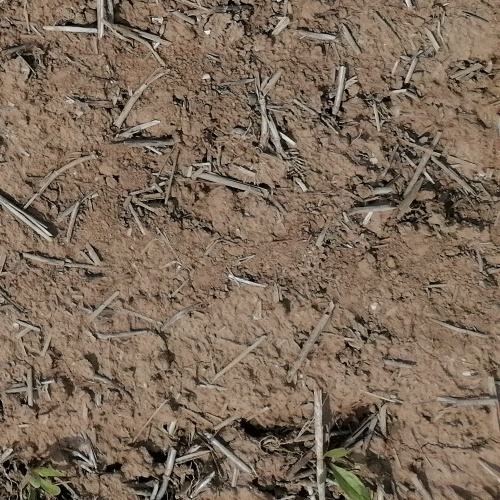beet: (319, 448, 370, 500), (17, 468, 65, 500)
